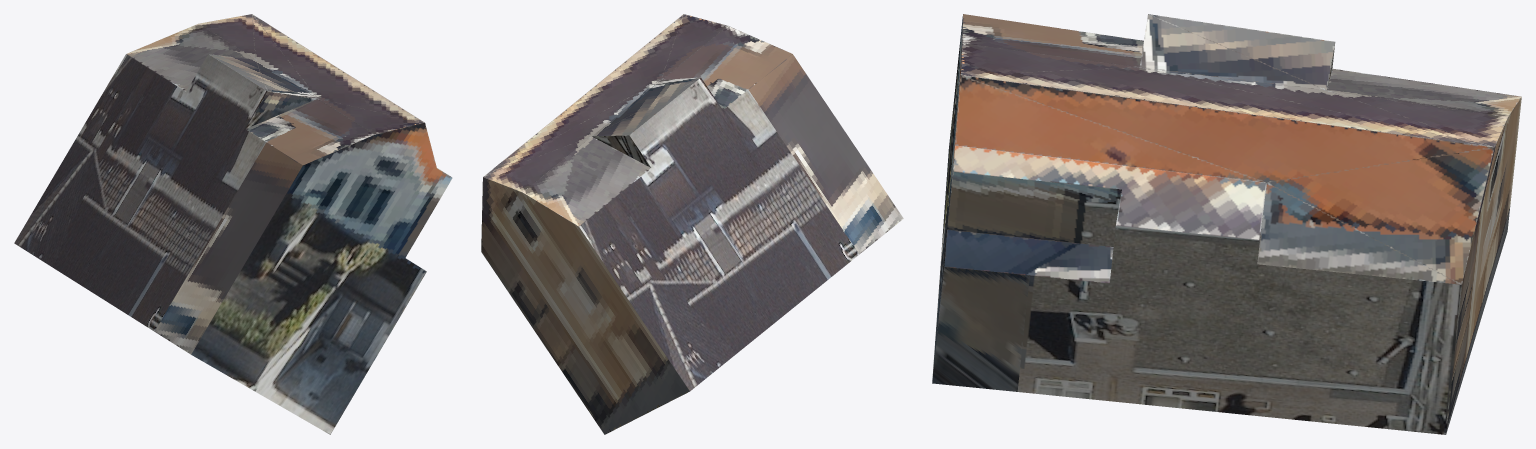
3 renders of one model, left to right at view 1: azimuth 30°, elevation 25°; view 2: azimuth 150°, elevation 25°; view 3: azimuth 270°, elevation 25°, orthographic. The views are drawn at different scales.
Parts seen in each view (by area): view 1: BAG_0599100000760478 (×4); view 2: BAG_0599100000760478 (×4); view 3: BAG_0599100000760478 (×4).
Part boxes in pixels (bbox=[...]): BAG_0599100000760478 (×4): bbox=[14, 14, 452, 434]; BAG_0599100000760478 (×4): bbox=[481, 14, 903, 434]; BAG_0599100000760478 (×4): bbox=[932, 14, 1521, 434].
Bounding box in the file's own units: 12.43 × 12.7 × 16.03.
5 materials, 5 textured.
